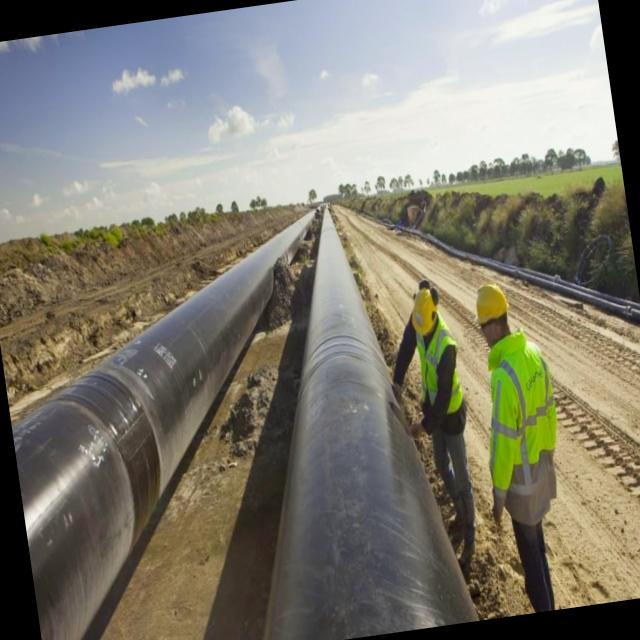gas: (13, 203, 318, 640), (263, 209, 480, 640)
